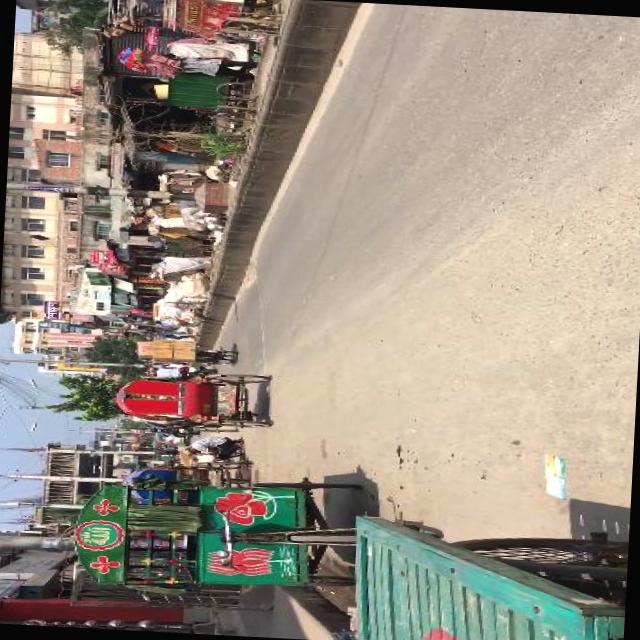car: (154, 434, 188, 446)
motorcycle: (116, 369, 270, 428), (127, 456, 250, 504), (144, 364, 213, 379), (149, 428, 193, 438)
